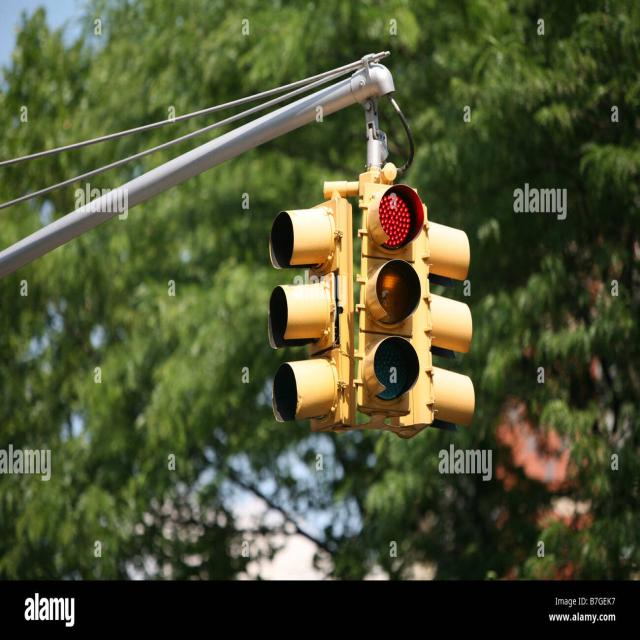red: (368, 184, 422, 253)
